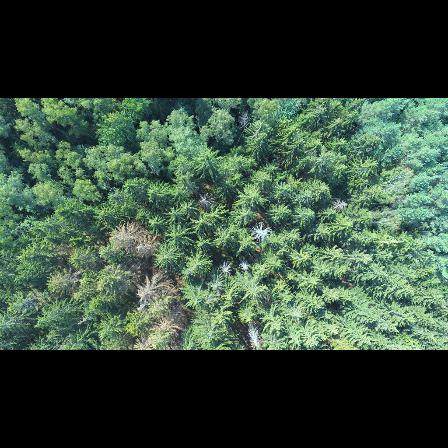Dead: (109, 220, 159, 259), (137, 273, 175, 304), (243, 321, 263, 349), (248, 222, 273, 244), (195, 191, 217, 210), (218, 260, 232, 275), (239, 261, 252, 272)
